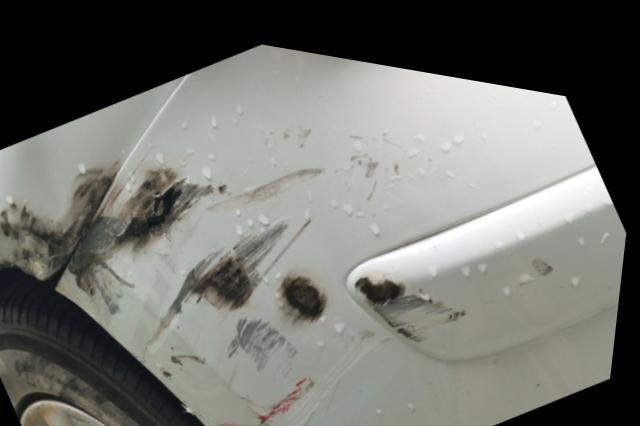dent: (10, 131, 77, 220)
scratch: (63, 146, 357, 426), (0, 161, 130, 289), (358, 260, 475, 329)
